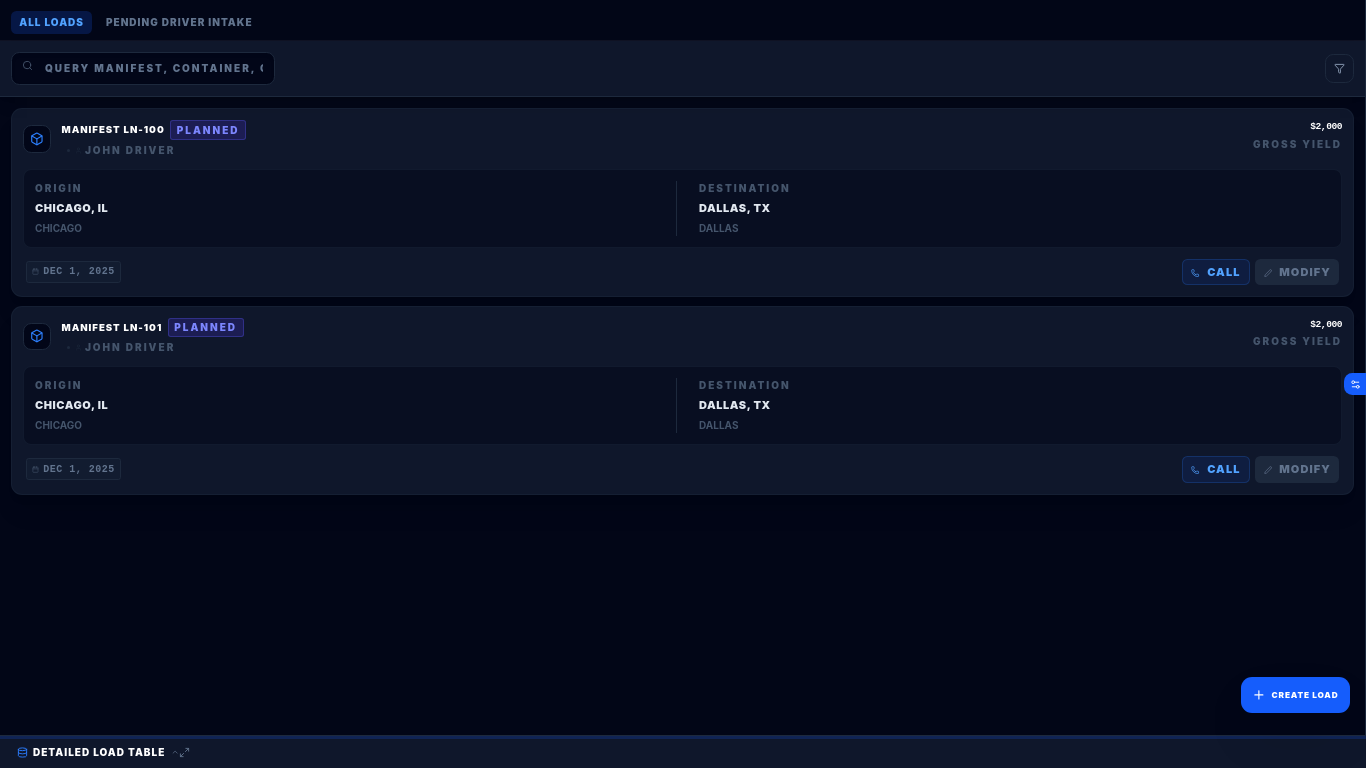
Test: LoadBoardEnhanced +New button z-index (R-P6-04) › Create Load button opens internal setup modal when clicked
Click the button "Create Load".
click(1295, 695)  # box [1241,677,1350,713]
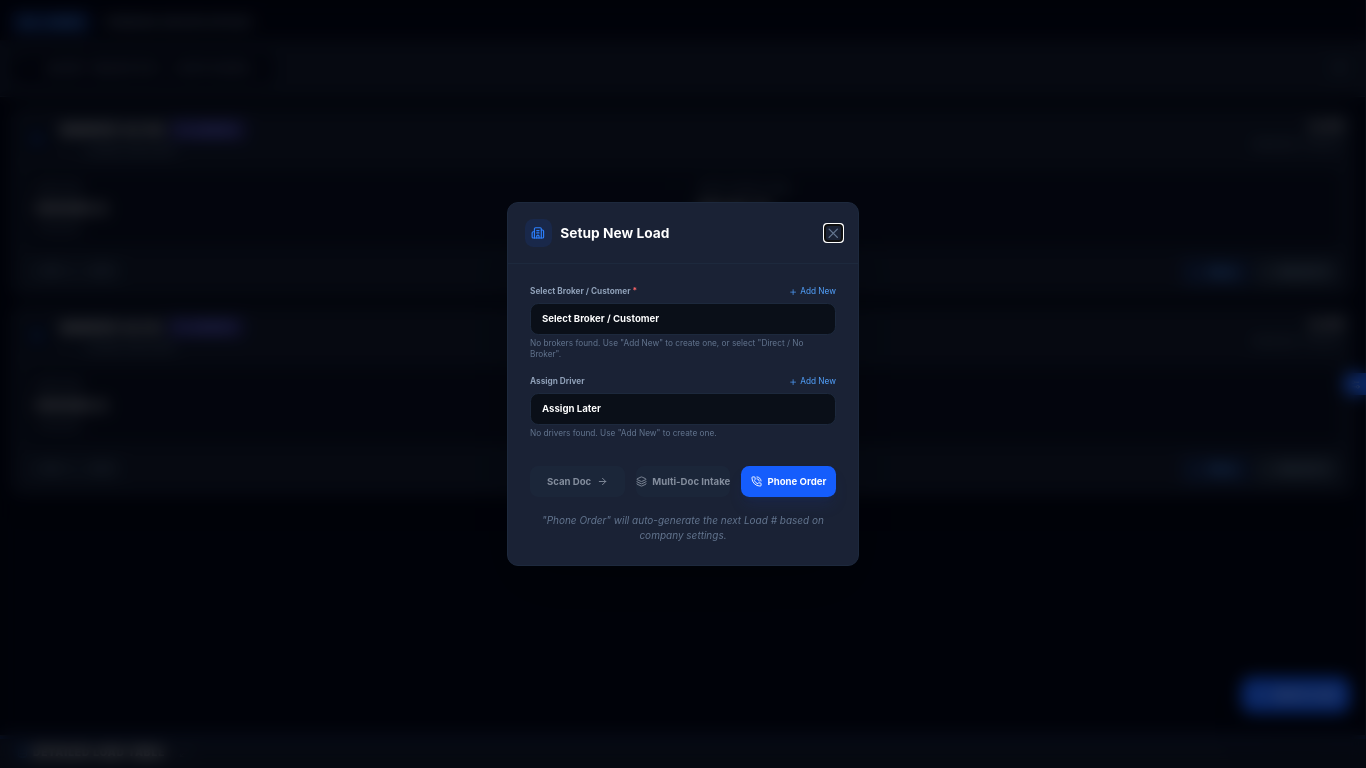
Now the heading "Setup New Load" is shown, box [560,224,669,243]
